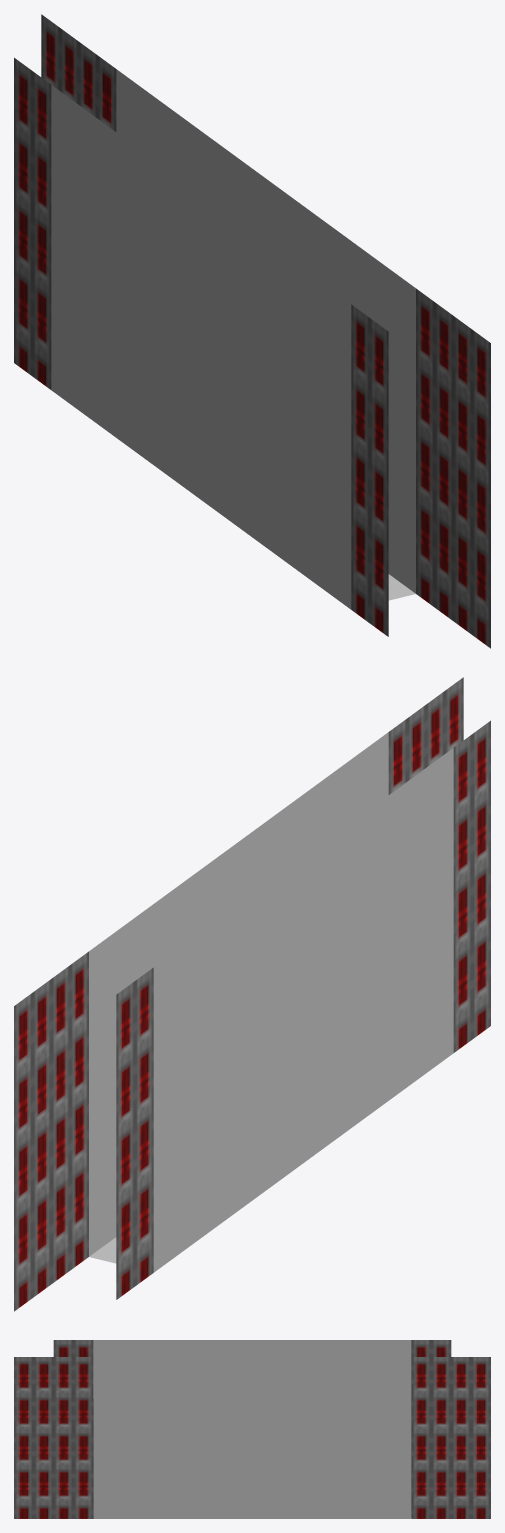
Rendered from door.fbx.
3 renders of one model, top to bottom at view 1: azimuth 30°, elevation 25°; view 2: azimuth 150°, elevation 25°; view 3: azimuth 270°, elevation 25°, orthographic. The views are drawn at different scales.
Parts seen in each view (by area): view 1: E1M2; view 2: E1M2; view 3: E1M2.
Part boxes in pixels (<box>): E1M2: <box>14,14,490,648</box>; E1M2: <box>14,677,490,1311</box>; E1M2: <box>14,1340,490,1518</box>.
Bounding box in the file's own units: 1600 × 7200 × 19200.
